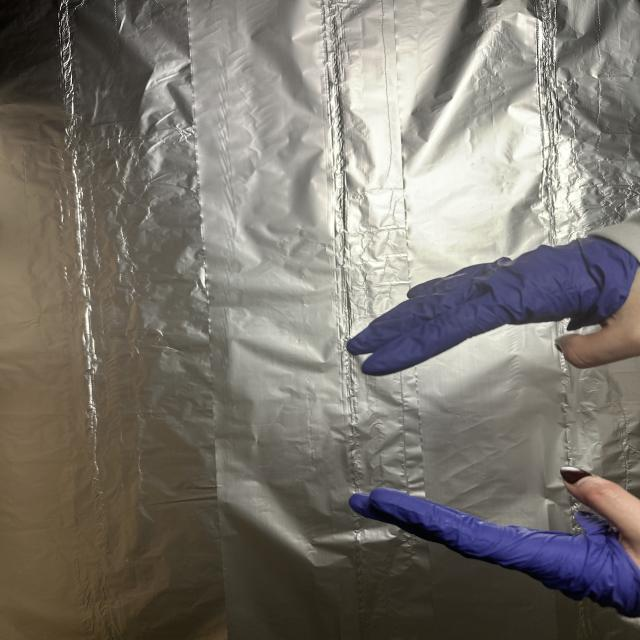glove_partial: (347, 463, 640, 624), (339, 228, 640, 379)
